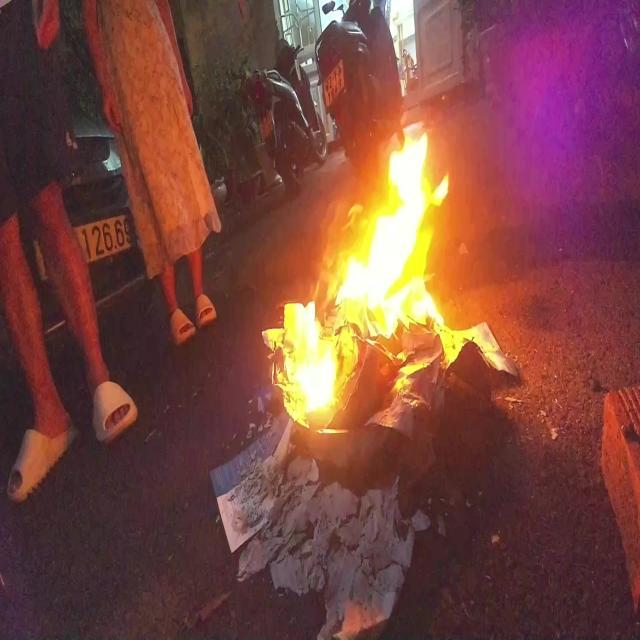Fire: (260, 125, 486, 438)
